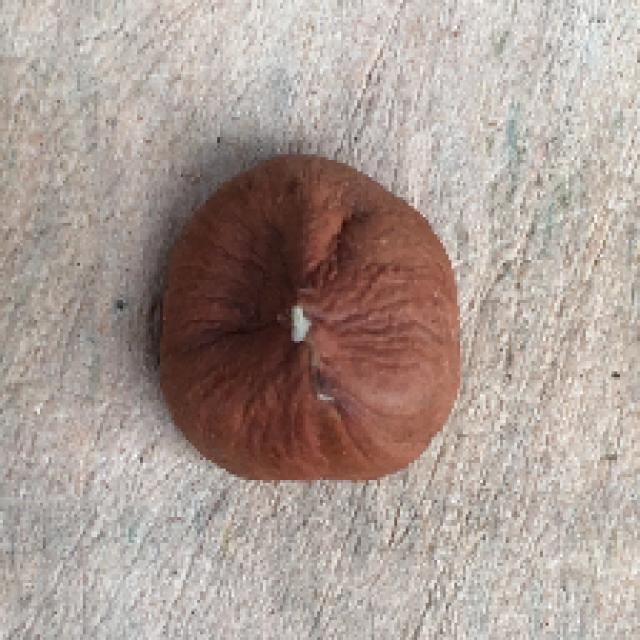hazelnut: (157, 146, 469, 494)
